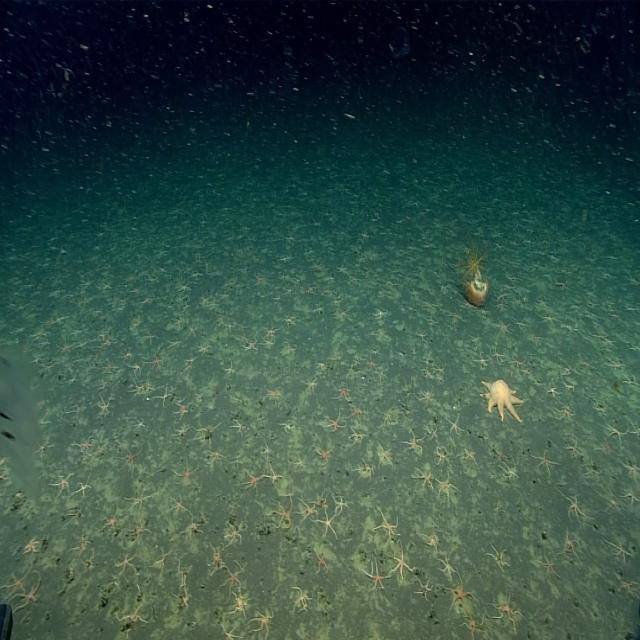brittle-stars: (442, 568, 476, 614), (0, 564, 32, 604), (14, 576, 42, 620), (489, 592, 519, 628), (560, 492, 587, 525), (362, 559, 389, 590), (126, 486, 154, 514), (249, 611, 275, 638), (390, 550, 411, 582), (272, 498, 293, 530), (224, 565, 245, 596), (377, 512, 400, 540), (116, 603, 145, 625), (608, 537, 632, 562), (318, 510, 338, 539), (174, 460, 197, 485), (488, 545, 510, 571), (463, 613, 484, 640), (113, 552, 136, 576), (532, 450, 555, 474), (617, 573, 640, 597), (599, 489, 620, 515), (536, 552, 557, 578), (121, 446, 143, 470), (561, 528, 579, 557), (603, 421, 626, 443), (102, 507, 120, 535), (294, 587, 314, 612), (226, 521, 245, 546), (439, 474, 458, 499), (298, 498, 319, 520), (196, 424, 218, 445), (53, 473, 72, 497), (208, 544, 224, 572), (404, 430, 424, 452), (130, 520, 150, 542), (414, 466, 433, 489), (184, 515, 202, 539), (621, 485, 640, 507), (378, 442, 394, 468), (356, 458, 374, 481), (169, 493, 187, 515), (233, 594, 251, 616), (74, 477, 92, 499), (327, 412, 346, 432), (440, 556, 458, 577), (24, 534, 42, 555), (314, 549, 329, 574), (349, 402, 366, 424), (416, 578, 433, 600), (67, 401, 86, 420), (244, 470, 262, 490), (315, 445, 333, 465), (155, 550, 170, 574), (73, 538, 89, 560), (266, 465, 284, 484), (418, 387, 436, 406), (597, 439, 615, 458), (622, 460, 640, 479), (582, 463, 600, 482), (564, 440, 581, 460), (34, 439, 51, 459), (176, 562, 192, 583), (334, 491, 349, 513), (460, 448, 478, 466), (557, 406, 575, 424), (76, 438, 94, 456), (232, 418, 250, 436), (502, 458, 518, 478), (176, 588, 191, 609), (92, 442, 107, 463), (221, 623, 239, 640), (174, 401, 190, 420), (65, 508, 84, 524), (98, 394, 112, 415), (207, 449, 224, 466), (562, 319, 580, 335), (383, 407, 396, 428), (267, 387, 284, 403), (448, 416, 463, 434), (351, 426, 366, 444), (158, 386, 172, 405), (304, 378, 320, 394), (496, 318, 512, 334), (148, 356, 164, 372), (101, 358, 117, 374), (58, 340, 74, 356), (491, 347, 506, 364), (579, 354, 596, 369), (336, 384, 350, 402), (537, 312, 555, 326), (424, 532, 438, 550), (425, 423, 439, 441), (400, 380, 414, 398), (282, 342, 297, 358), (375, 325, 390, 341), (513, 316, 530, 330), (82, 553, 93, 574), (244, 338, 259, 353), (175, 423, 190, 438), (449, 309, 464, 324), (54, 312, 69, 327), (266, 322, 280, 338), (548, 381, 561, 398), (223, 358, 234, 378), (374, 307, 389, 321), (130, 360, 144, 375), (512, 356, 527, 370), (131, 378, 144, 394), (186, 321, 198, 338), (628, 422, 640, 439), (332, 350, 344, 367), (623, 375, 640, 387), (280, 420, 294, 434), (416, 330, 430, 344), (338, 307, 352, 321), (494, 448, 507, 463), (198, 344, 213, 357), (173, 314, 186, 329), (477, 350, 489, 366), (438, 448, 450, 464), (169, 337, 183, 350), (142, 332, 156, 345), (556, 279, 570, 292), (120, 348, 133, 362), (102, 336, 115, 350), (558, 362, 571, 376), (294, 453, 306, 468), (593, 404, 608, 416), (0, 464, 8, 486), (201, 290, 212, 306), (366, 354, 376, 371), (284, 314, 297, 327), (142, 294, 155, 307), (361, 266, 374, 279), (563, 380, 576, 393), (71, 324, 84, 337), (422, 365, 434, 379), (423, 300, 437, 312), (184, 354, 196, 368), (38, 413, 50, 427), (178, 281, 190, 294), (238, 320, 250, 333), (349, 274, 362, 286), (191, 270, 204, 282), (305, 283, 316, 297), (215, 312, 226, 326), (263, 443, 273, 458), (135, 418, 147, 430), (264, 338, 276, 350), (338, 264, 350, 276), (536, 296, 548, 308), (378, 366, 388, 380), (604, 363, 623, 370), (426, 315, 437, 327), (291, 275, 302, 286), (532, 335, 543, 346), (436, 362, 446, 374), (284, 284, 294, 296), (522, 364, 532, 376), (100, 378, 110, 390), (496, 292, 507, 302), (254, 276, 264, 286), (437, 374, 446, 384), (317, 361, 325, 372)
